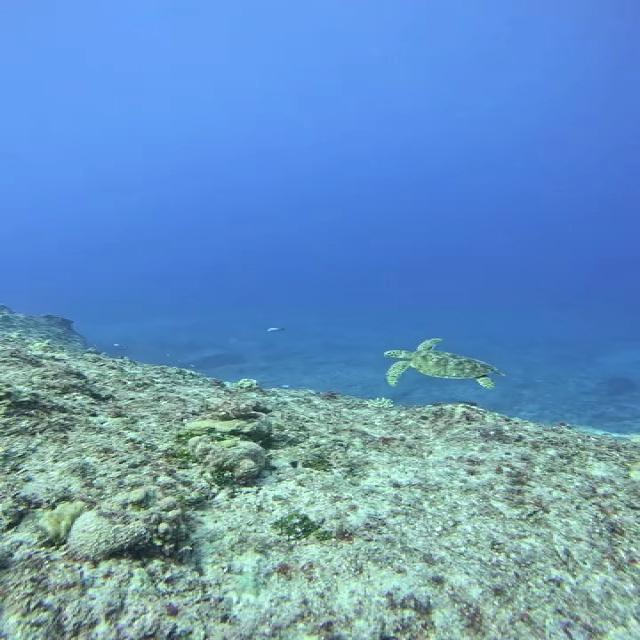turtle: (383, 338, 506, 389)
